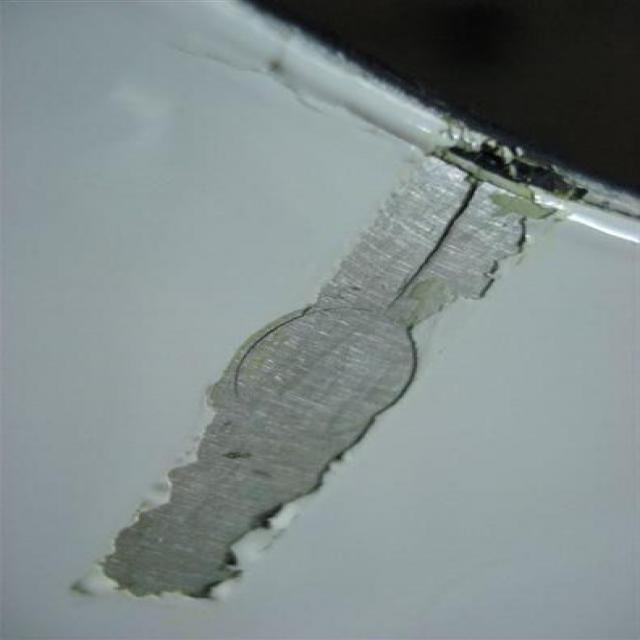crack: (397, 136, 520, 321)
